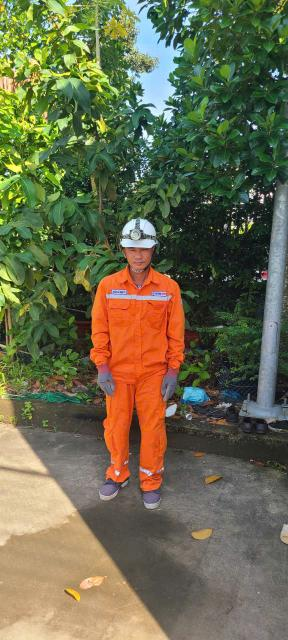gloves: (84, 361, 126, 397), (148, 372, 185, 405)
helmet: (105, 208, 172, 254)
shoes: (82, 458, 127, 509), (142, 469, 169, 515)
